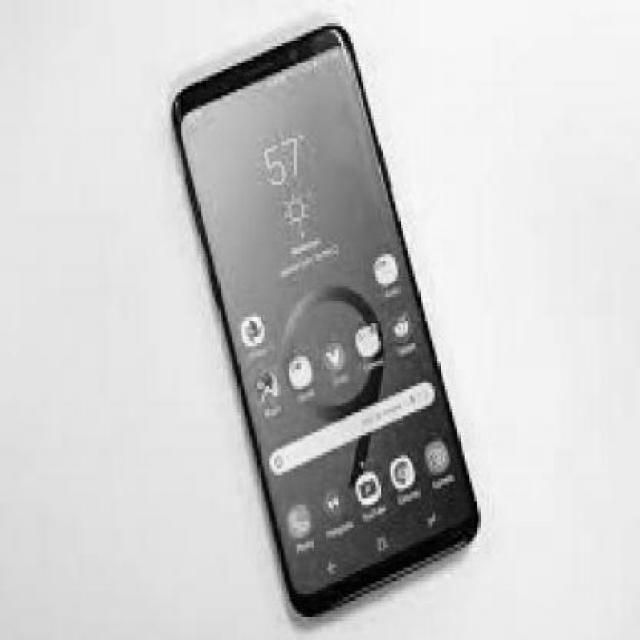fake: (170, 20, 482, 614)
